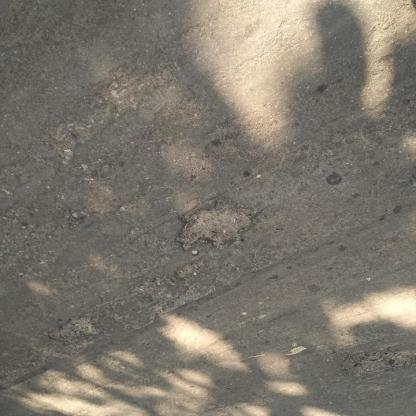pothole: (175, 201, 260, 255), (339, 348, 416, 381)
